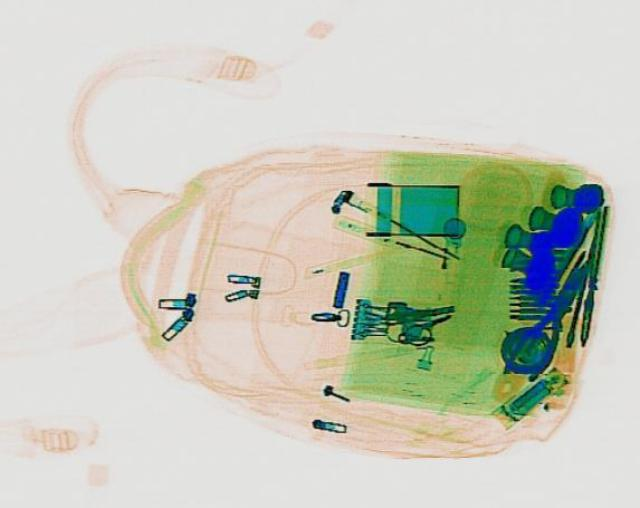Pliers: (497, 262, 599, 381)
